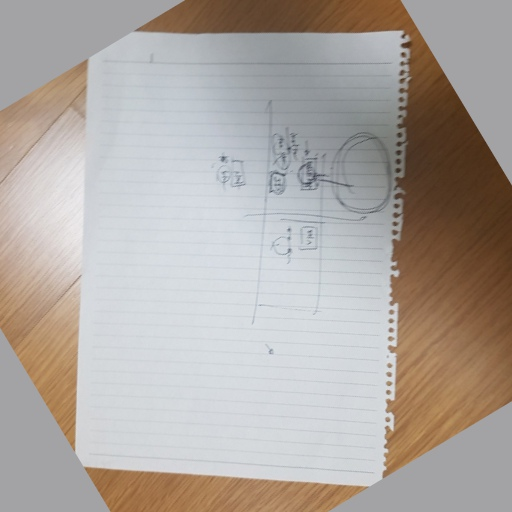Paper_2: (78, 27, 401, 487)
